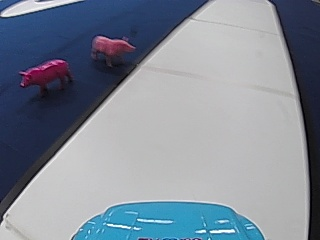pig: (17, 55, 72, 98), (90, 30, 135, 69)
